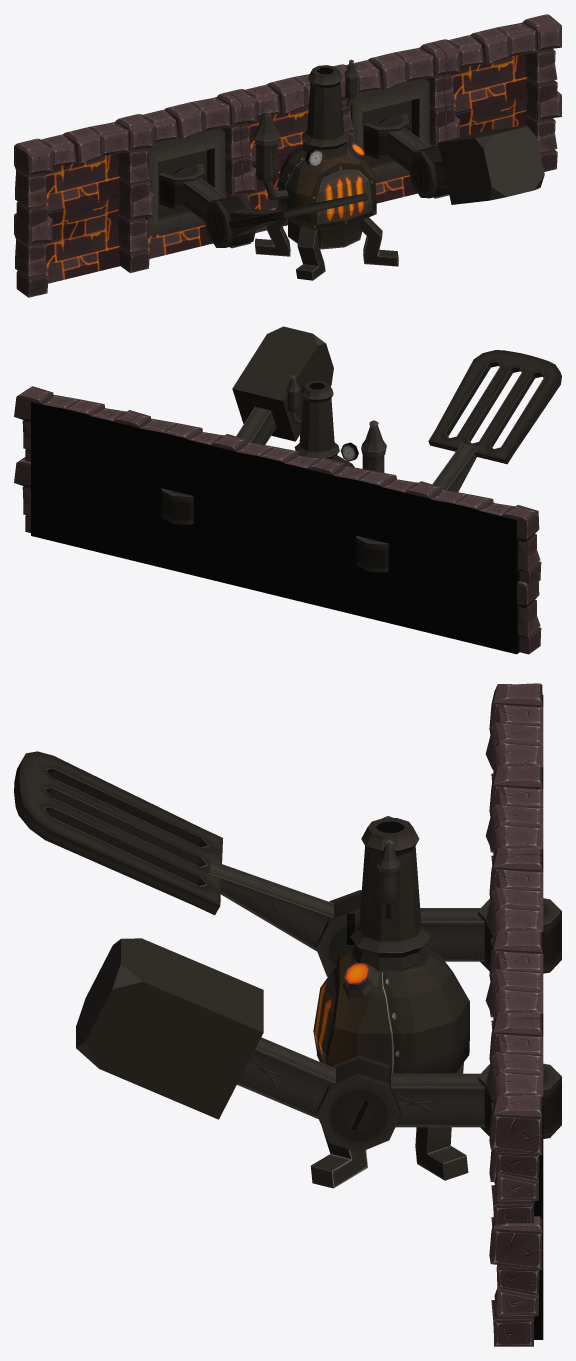
Rendered from Mad Oven.FBX.
3 views of the same model, one above another, from view 1: azimuth 30°, elevation 25°; view 2: azimuth 150°, elevation 25°; view 3: azimuth 270°, elevation 25° (orthographic). The views are drawn at different scales.
Parts seen in each view (by area): view 1: Box129, Cylinder003, Box133, Box134, Box130, Box144, Box121, Object002, Box143, Box132, Box136; view 2: Box129, Box144, Box133, Cylinder003, Box132, Box143, Box136; view 3: Box129, Box133, Box144, Cylinder003, Box132, Box143, Box121, Object002.
Boxes of the visible parts, x1=… form: Box129: x1=14, y1=14, x2=561, y2=297; Cylinder003: x1=256, y1=65, x2=376, y2=249; Box133: x1=408, y1=125, x2=544, y2=204; Box134: x1=145, y1=129, x2=225, y2=236; Box130: x1=350, y1=79, x2=429, y2=181; Box144: x1=204, y1=193, x2=367, y2=247; Box121: x1=255, y1=206, x2=398, y2=280; Object002: x1=310, y1=163, x2=376, y2=229; Box143: x1=159, y1=163, x2=226, y2=221; Box132: x1=364, y1=114, x2=430, y2=170; Box136: x1=253, y1=107, x2=280, y2=146; Box129: x1=14, y1=386, x2=541, y2=654; Box144: x1=428, y1=350, x2=561, y2=492; Box133: x1=232, y1=326, x2=333, y2=444; Cylinder003: x1=287, y1=380, x2=384, y2=472; Box132: x1=161, y1=488, x2=193, y2=524; Box143: x1=356, y1=536, x2=388, y2=572; Box136: x1=361, y1=420, x2=386, y2=457; Box129: x1=485, y1=683, x2=543, y2=1346; Box133: x1=76, y1=938, x2=400, y2=1152; Box144: x1=14, y1=751, x2=361, y2=976; Cylinder003: x1=317, y1=818, x2=469, y2=1073; Box132: x1=391, y1=1063, x2=561, y2=1138; Box143: x1=420, y1=898, x2=561, y2=973; Box121: x1=310, y1=1062, x2=468, y2=1188; Object002: x1=313, y1=955, x2=339, y2=1064.
Bounding box in the file's own units: 2387 × 831 × 1271.
